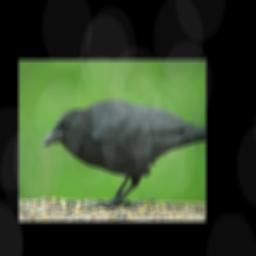Crow: (42, 100, 207, 213)
